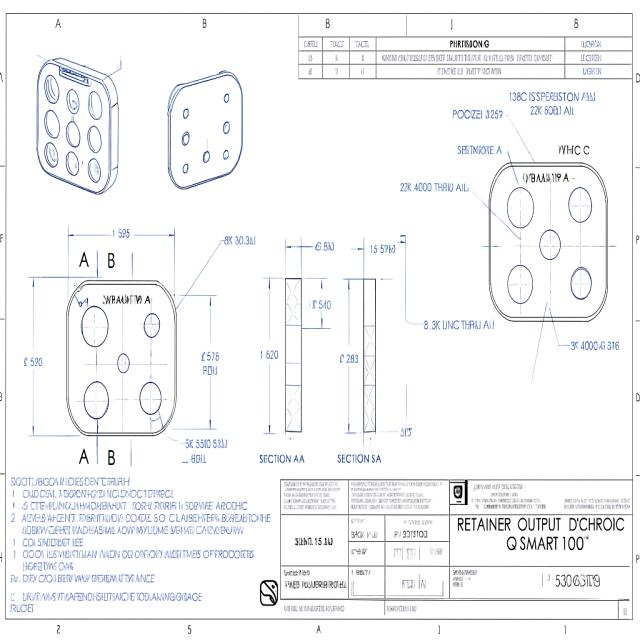Isometric view: (39, 41, 126, 201), (162, 69, 253, 193)
Sectional view: (250, 216, 413, 477)
Table 1: (297, 11, 638, 81)
Table 2: (281, 478, 638, 624)
Top view: (404, 89, 635, 368), (14, 224, 259, 464)
text1: (7, 472, 277, 620)
